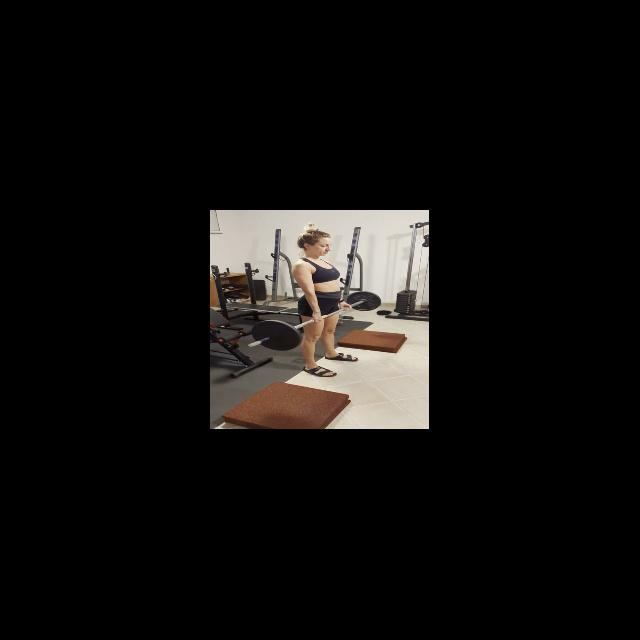barbell: (245, 318, 303, 352)
